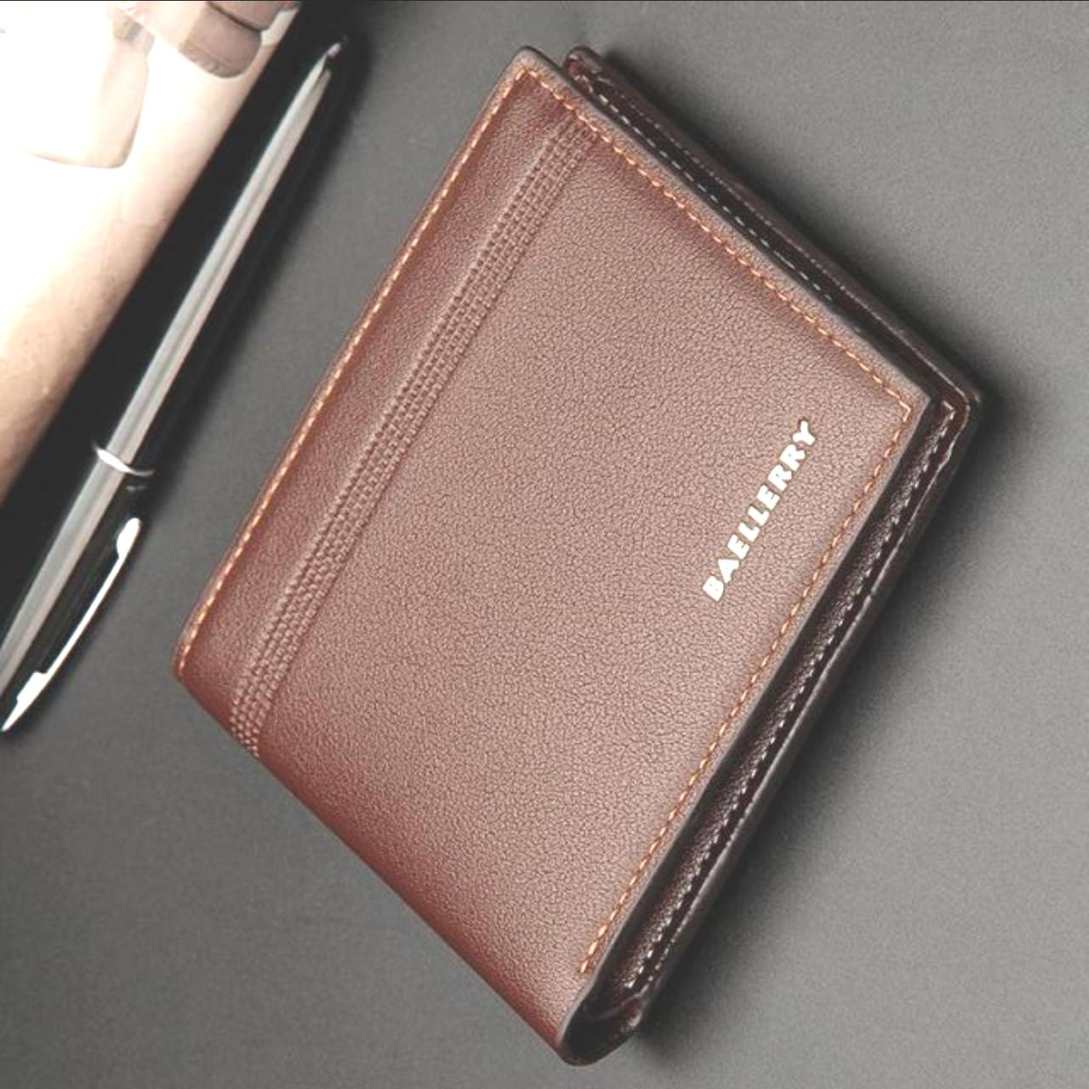wallet: (128, 28, 1020, 1080)
